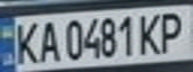0: (60, 16, 84, 61)
1: (115, 12, 139, 56)
4: (81, 15, 103, 60)
8: (100, 14, 118, 58)
A: (36, 17, 60, 64)
K: (9, 18, 42, 65), (136, 10, 166, 56)
P: (154, 8, 190, 54)
